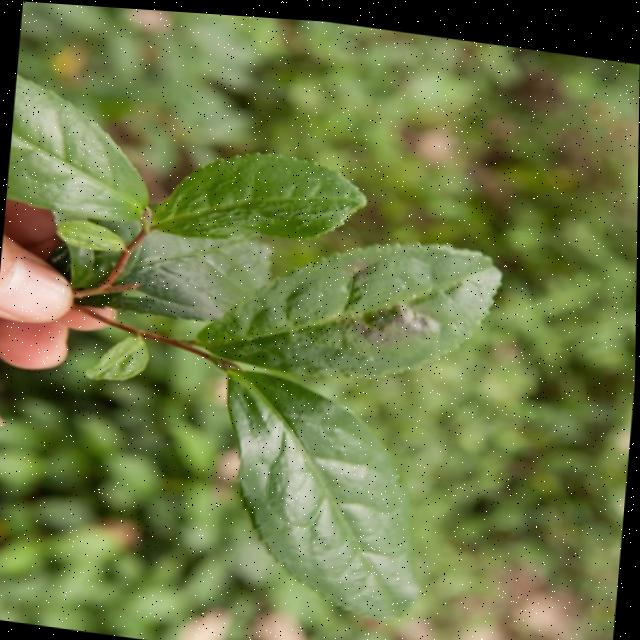Tea exobasidium blight: (344, 262, 464, 364)
